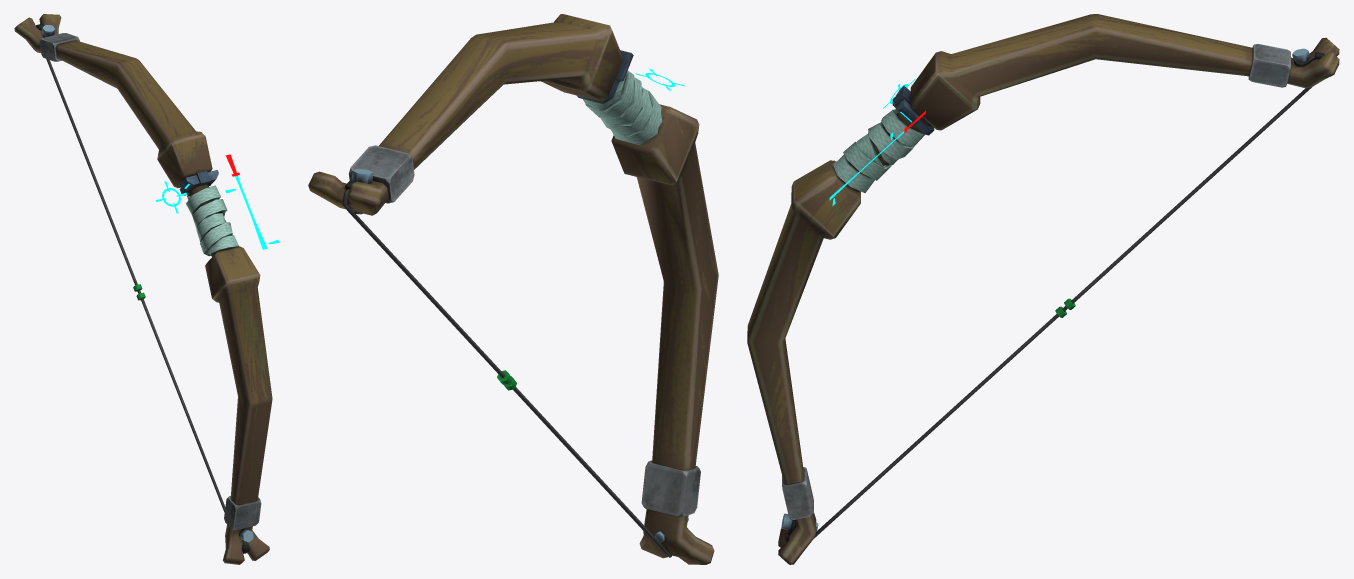
Rendered from weapon-bow1-pickup.glb.
3 renders of one model, left to right at view 1: azimuth 30°, elevation 25°; view 2: azimuth 150°, elevation 25°; view 3: azimuth 270°, elevation 25°, orthographic. The views are drawn at different scales.
Visible parts, largest first — view 1: weapon-bow1_PICKUP; view 2: weapon-bow1_PICKUP; view 3: weapon-bow1_PICKUP.
Part boxes in pixels (x1,y1,x2,y2): weapon-bow1_PICKUP: (14, 14, 279, 564); weapon-bow1_PICKUP: (308, 14, 718, 564); weapon-bow1_PICKUP: (747, 14, 1339, 564).
Size of the model in its own units: 0.1595 by 0.6456 by 0.6456.
Materials: 3 (1 with a texture image).
